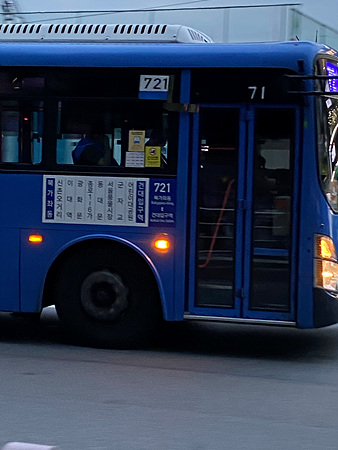entrance: (188, 64, 296, 330)
